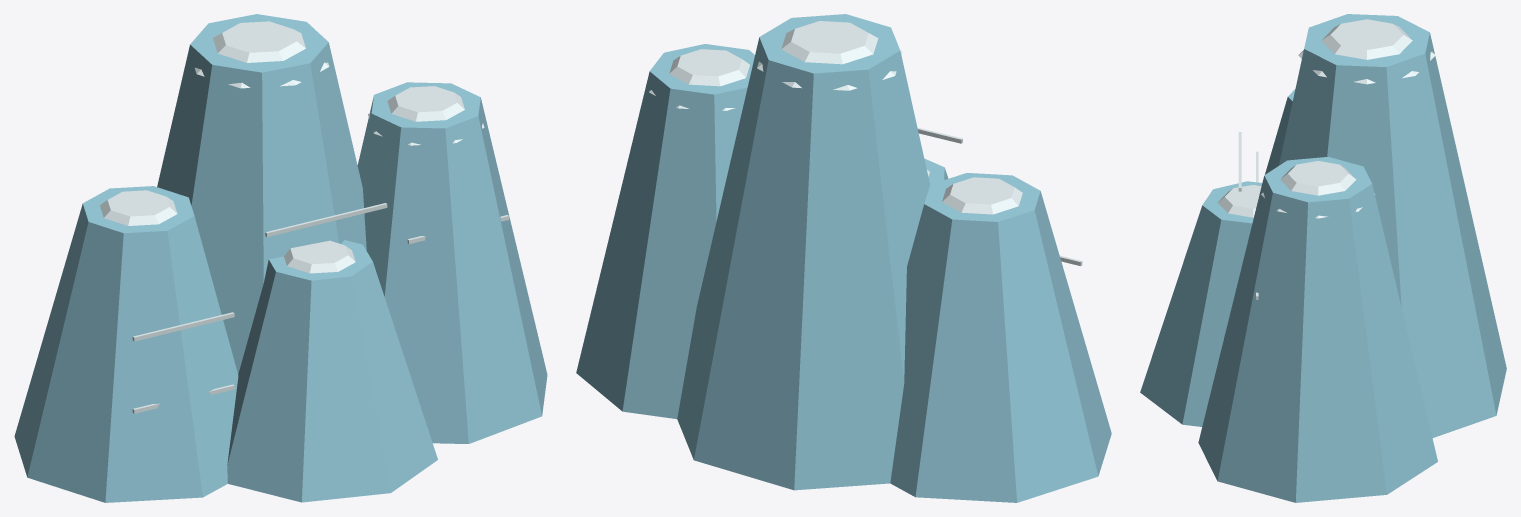
Rendered from glacier.glb.
3 renders of one model, left to right at view 1: azimuth 30°, elevation 25°; view 2: azimuth 150°, elevation 25°; view 3: azimuth 270°, elevation 25°, orthographic. The views are drawn at different scales.
Visible parts, largest first — view 1: Ice spire, Ice spire.002, Ice spire.001, Ice spire.003, Frost cap.001, Frost cap.002, Frost cap, Frost cap.003, Ice fracture.003, Ice fracture.001; view 2: Ice spire.001, Ice spire, Ice spire.002, Frost cap.001, Frost cap.002, Frost cap; view 3: Ice spire.002, Ice spire.001, Ice spire.003, Frost cap.001, Frost cap.002, Frost cap.003, Ice spire.
Part boxes in pixels (box(x1,y1,x2,y2)): Ice spire: box(14, 186, 238, 502); Ice spire.002: box(357, 82, 547, 443); Ice spire.001: box(157, 14, 366, 374); Ice spire.003: box(227, 240, 437, 502); Frost cap.001: box(195, 21, 329, 88); Frost cap.002: box(368, 86, 484, 145); Frost cap: box(100, 190, 177, 225); Frost cap.003: box(284, 240, 355, 273); Ice fracture.003: box(265, 203, 387, 236); Ice fracture.001: box(132, 312, 234, 341); Ice spire.001: box(677, 14, 929, 490); Ice spire: box(890, 173, 1111, 502); Ice spire.002: box(576, 44, 754, 418); Frost cap.001: box(757, 21, 902, 90); Frost cap.002: box(649, 49, 749, 110); Frost cap: box(942, 177, 1022, 214); Ice spire.002: box(1198, 157, 1437, 502); Ice spire.001: box(1279, 14, 1506, 437); Ice spire.003: box(1140, 181, 1262, 426); Frost cap.001: box(1298, 19, 1435, 84); Frost cap.002: box(1261, 161, 1375, 218); Frost cap.003: box(1217, 185, 1261, 217); Ice spire: box(1265, 89, 1295, 174).
Bounding box in the file's own units: 6.67 × 4.78 × 4.51.
